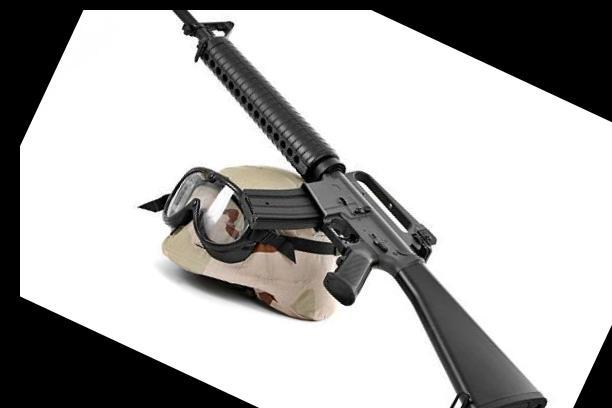larga: (172, 11, 547, 408)
